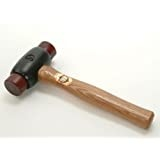hammer: (1, 41, 155, 131)
